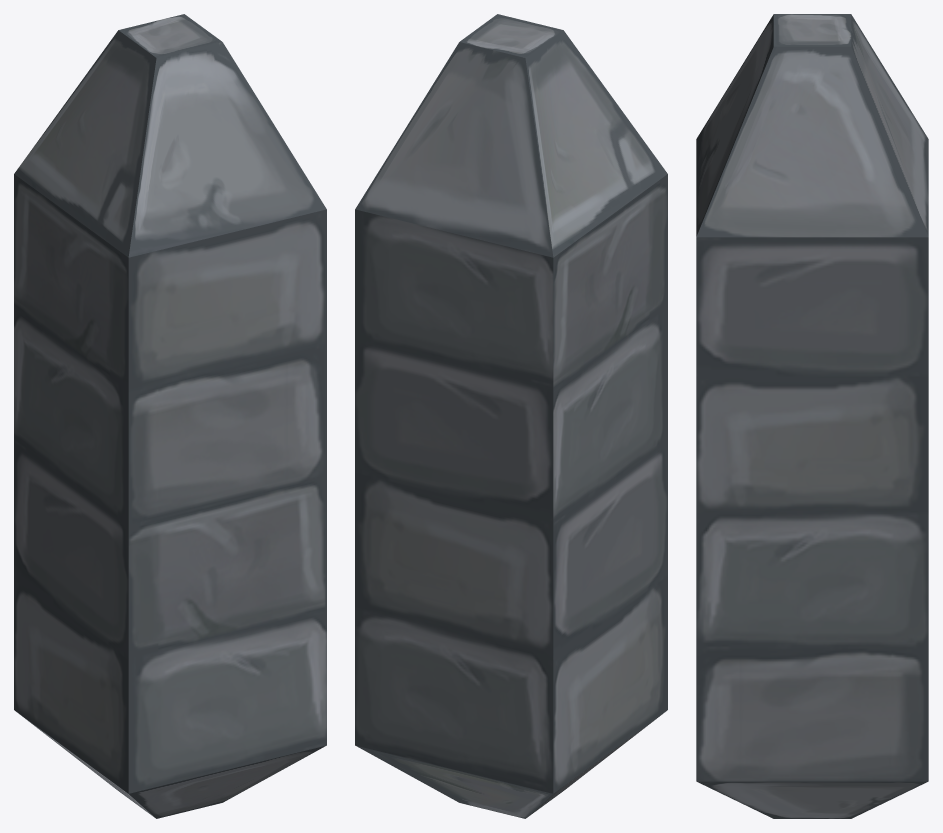
File: BattlementCorner.001.fbx
3 renders of one model, left to right at view 1: azimuth 30°, elevation 25°; view 2: azimuth 150°, elevation 25°; view 3: azimuth 270°, elevation 25°, orthographic.
Visible parts, largest first — view 1: BattlementCorner.001; view 2: BattlementCorner.001; view 3: BattlementCorner.001.
Boxes of the visible parts, x1=… form: BattlementCorner.001: x1=14, y1=14, x2=326, y2=818; BattlementCorner.001: x1=355, y1=14, x2=667, y2=818; BattlementCorner.001: x1=696, y1=14, x2=928, y2=818.
Bounding box in the file's own units: 60 × 220 × 60.
